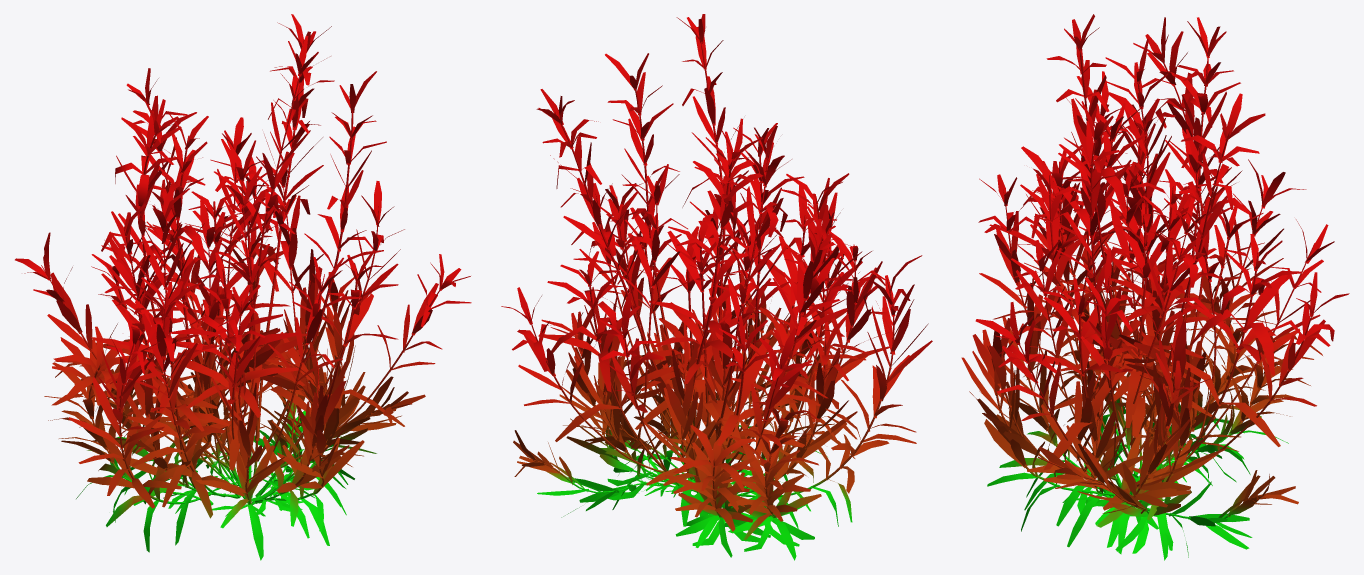
Rendered from Var1_LOD2.fbx.
3 renders of one model, left to right at view 1: azimuth 30°, elevation 25°; view 2: azimuth 150°, elevation 25°; view 3: azimuth 270°, elevation 25°, orthographic. The views are drawn at different scales.
Parts seen in each view (by area): view 1: _f4go_Var1_LOD2; view 2: _f4go_Var1_LOD2; view 3: _f4go_Var1_LOD2.
Part boxes in pixels (x1,y1,x2,y2): _f4go_Var1_LOD2: [15, 14, 471, 560]; _f4go_Var1_LOD2: [501, 14, 932, 560]; _f4go_Var1_LOD2: [961, 14, 1349, 560].
Size of the model in its own units: 31.98 by 42.03 by 28.58.
